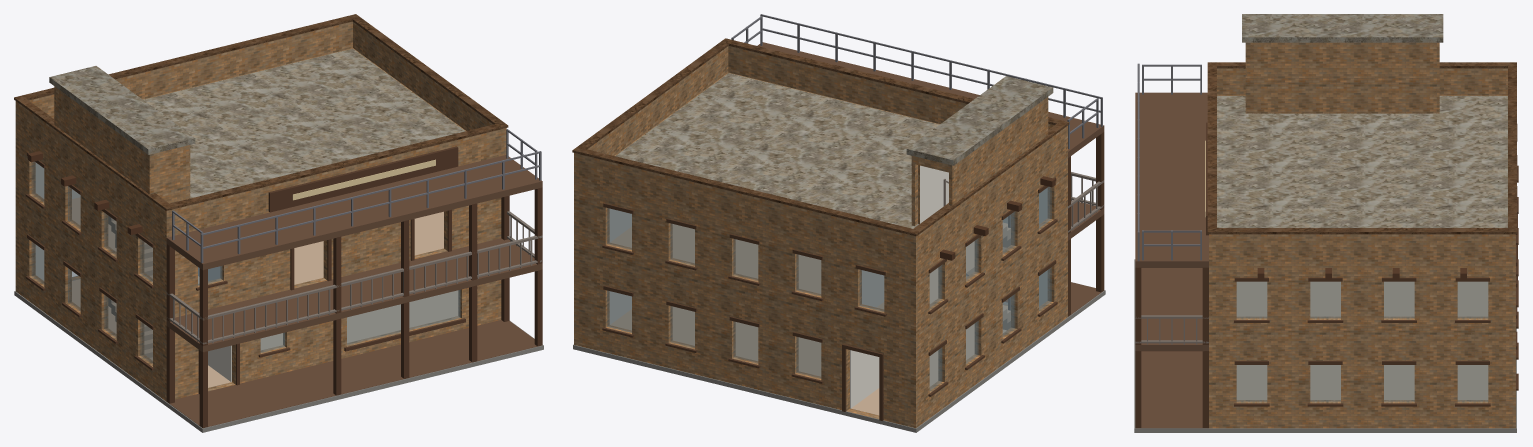
File: cr-trading-post.towns-v1.lod0.glb
3 views of the same model, side by side, from view 1: azimuth 30°, elevation 25°; view 2: azimuth 150°, elevation 25°; view 3: azimuth 270°, elevation 25° (orthographic).
Parts seen in each view (by area): view 1: cr-trading-post; view 2: cr-trading-post; view 3: cr-trading-post.
Boxes of the visible parts, x1,y1,x2,y2 form: cr-trading-post: (14,14,543,432); cr-trading-post: (572,14,1105,432); cr-trading-post: (1134,14,1518,432).
Bounding box in the file's own units: 13.9 × 8.95 × 12.52.
Materials: 6 (2 with a texture image).
